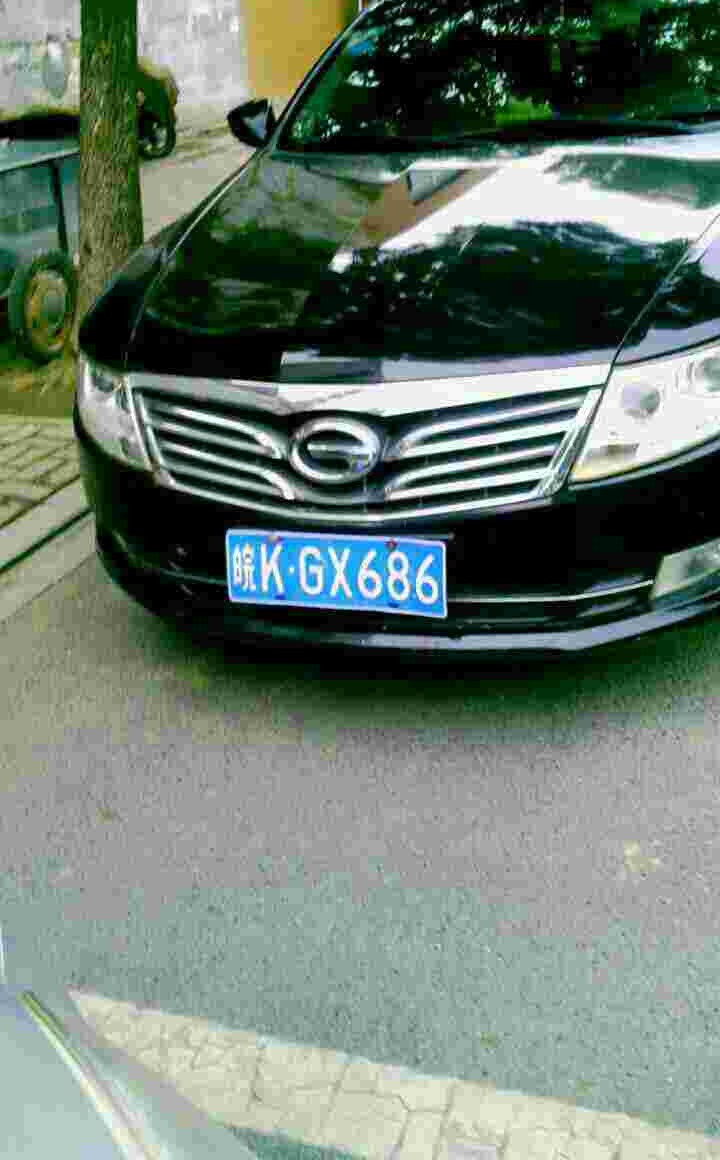license_plate: (225, 524, 444, 622)
